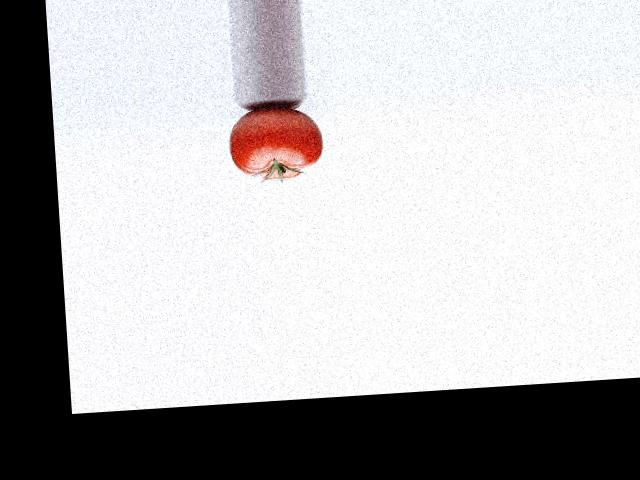tomato: (227, 104, 324, 182)
